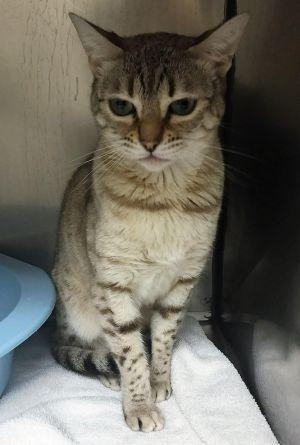bengal: (66, 6, 258, 189)
